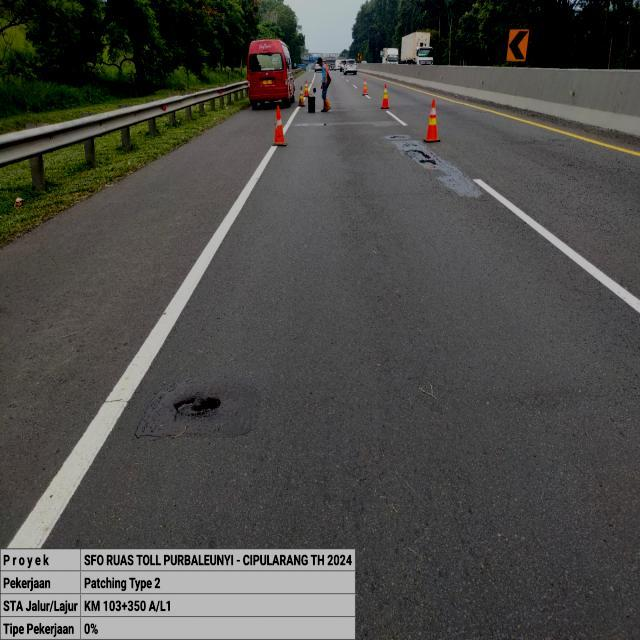Buraco: (169, 392, 226, 420), (403, 149, 432, 159), (418, 159, 438, 167), (387, 134, 408, 140), (400, 142, 419, 148)
